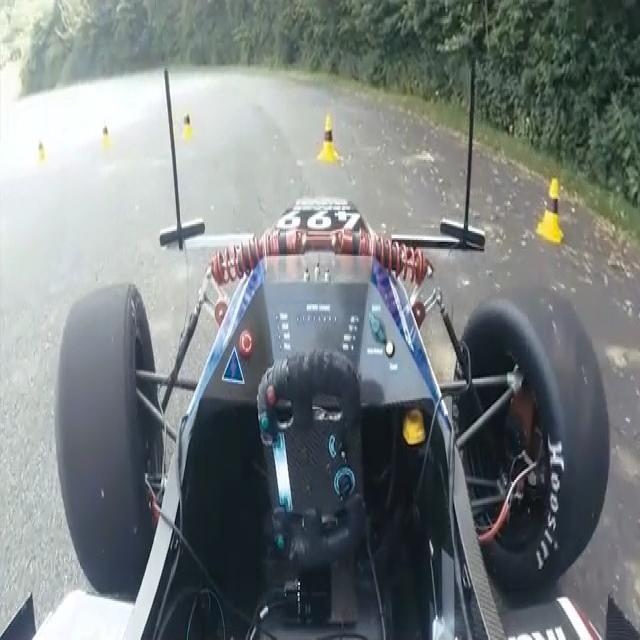yellow_cone: (535, 172, 563, 245), (319, 111, 343, 164), (181, 107, 194, 145), (99, 124, 113, 156), (36, 140, 45, 167)
